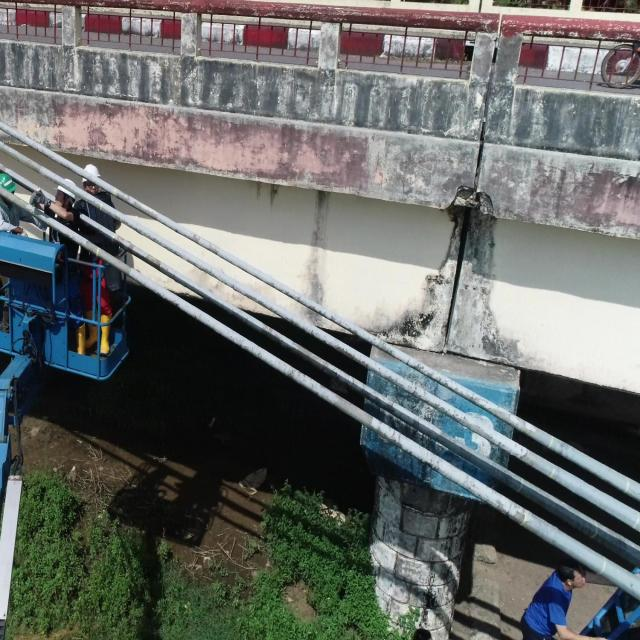crack: (390, 429, 395, 438), (398, 434, 401, 441), (210, 268, 212, 274), (246, 316, 248, 322), (232, 284, 234, 289), (310, 329, 312, 334), (407, 360, 409, 364)
